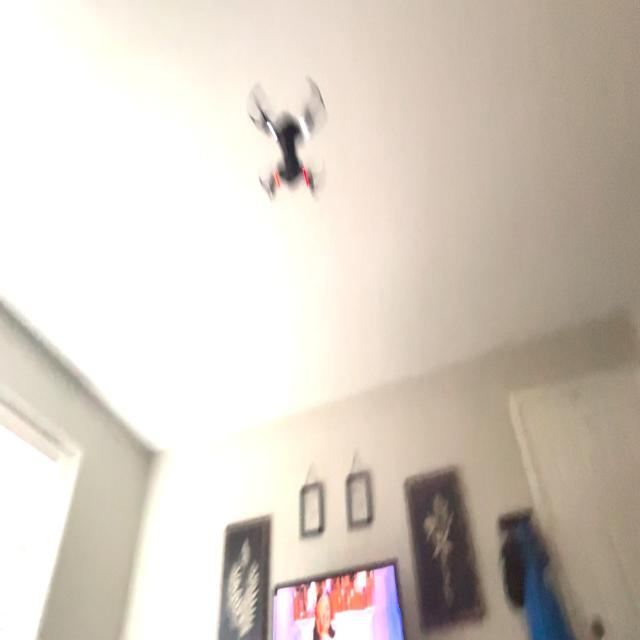drone: (240, 65, 331, 215)
